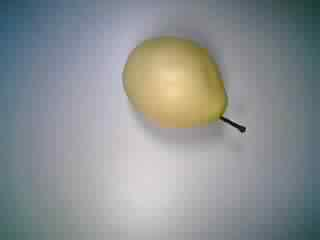pear: (109, 29, 257, 136)
